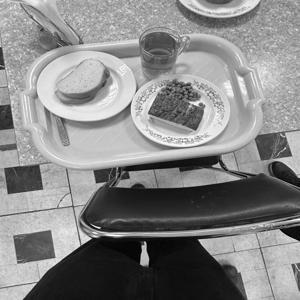bread: (42, 51, 115, 105)
casserole: (144, 80, 209, 135)
tea: (133, 22, 187, 75)
